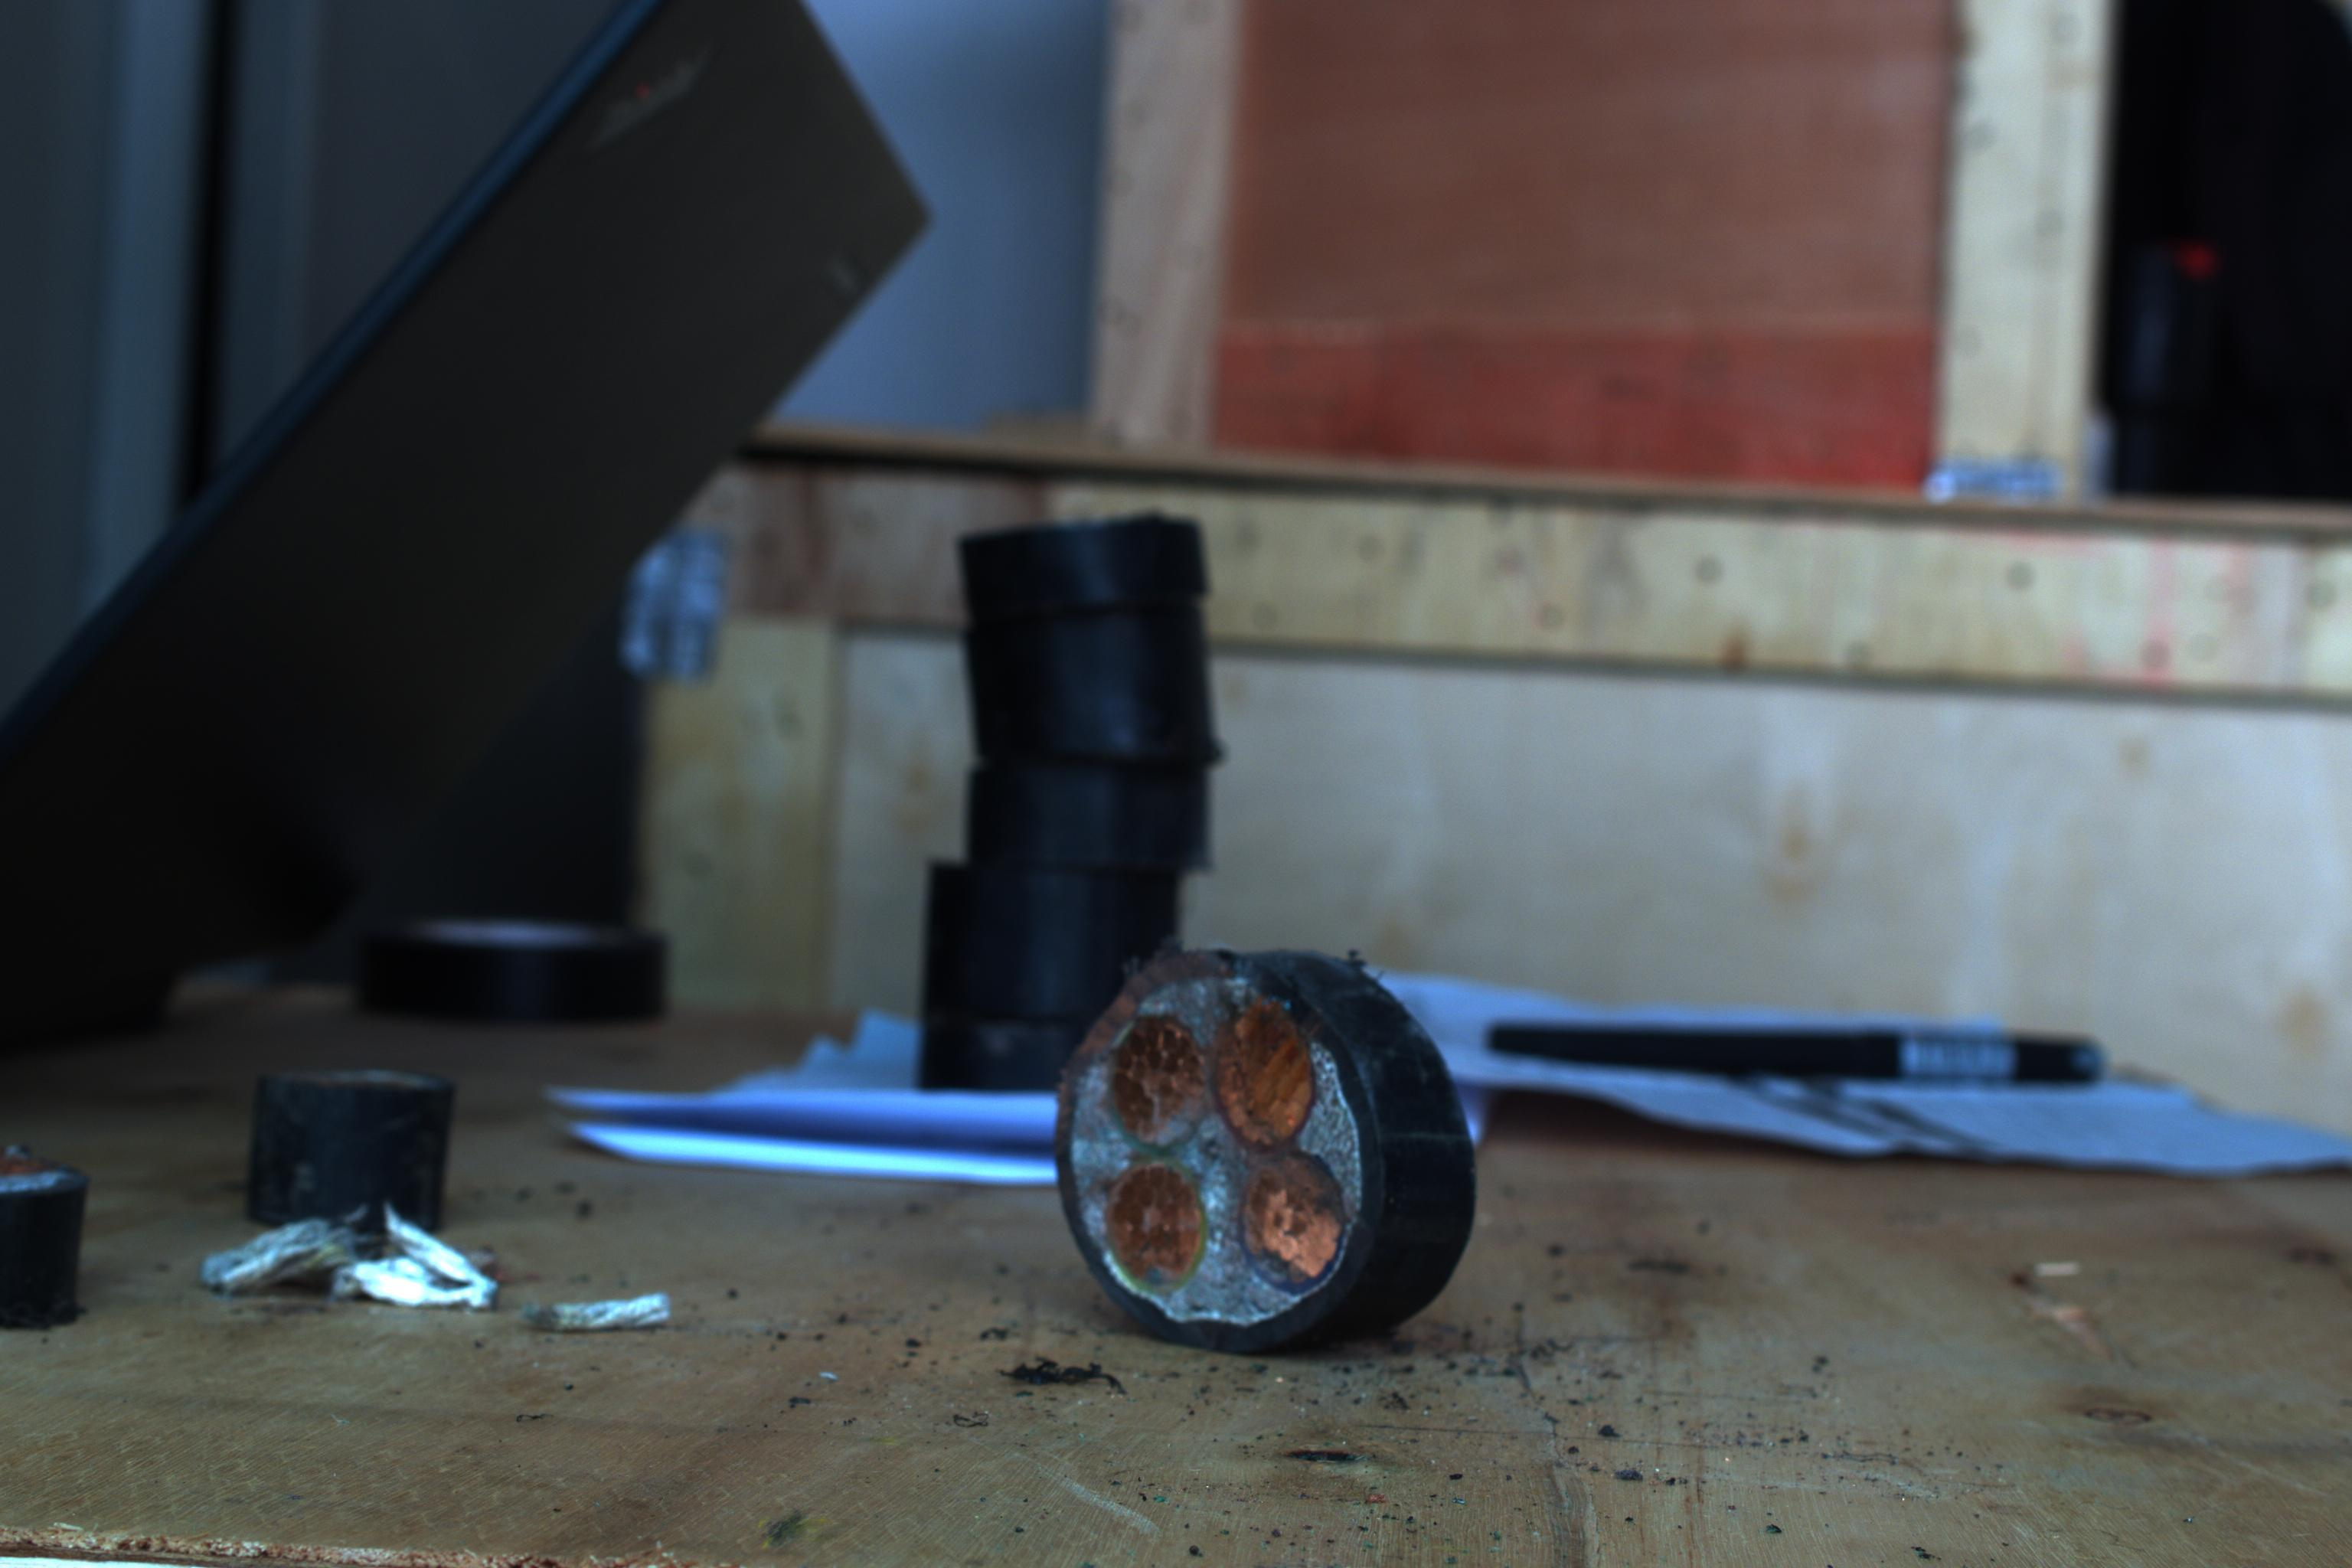YJV_0.6_1kV_4x120: (1046, 924, 1402, 1356)
